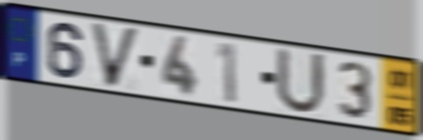1: (215, 41, 239, 106)
3: (336, 60, 374, 121)
4: (160, 33, 200, 99)
6: (45, 19, 86, 81)
U: (274, 45, 329, 118)
V: (88, 20, 143, 92)
